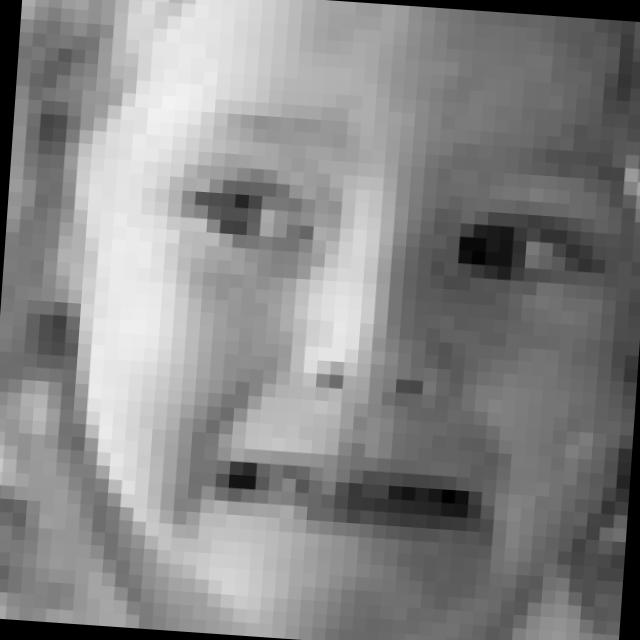fear: (140, 107, 618, 576)
